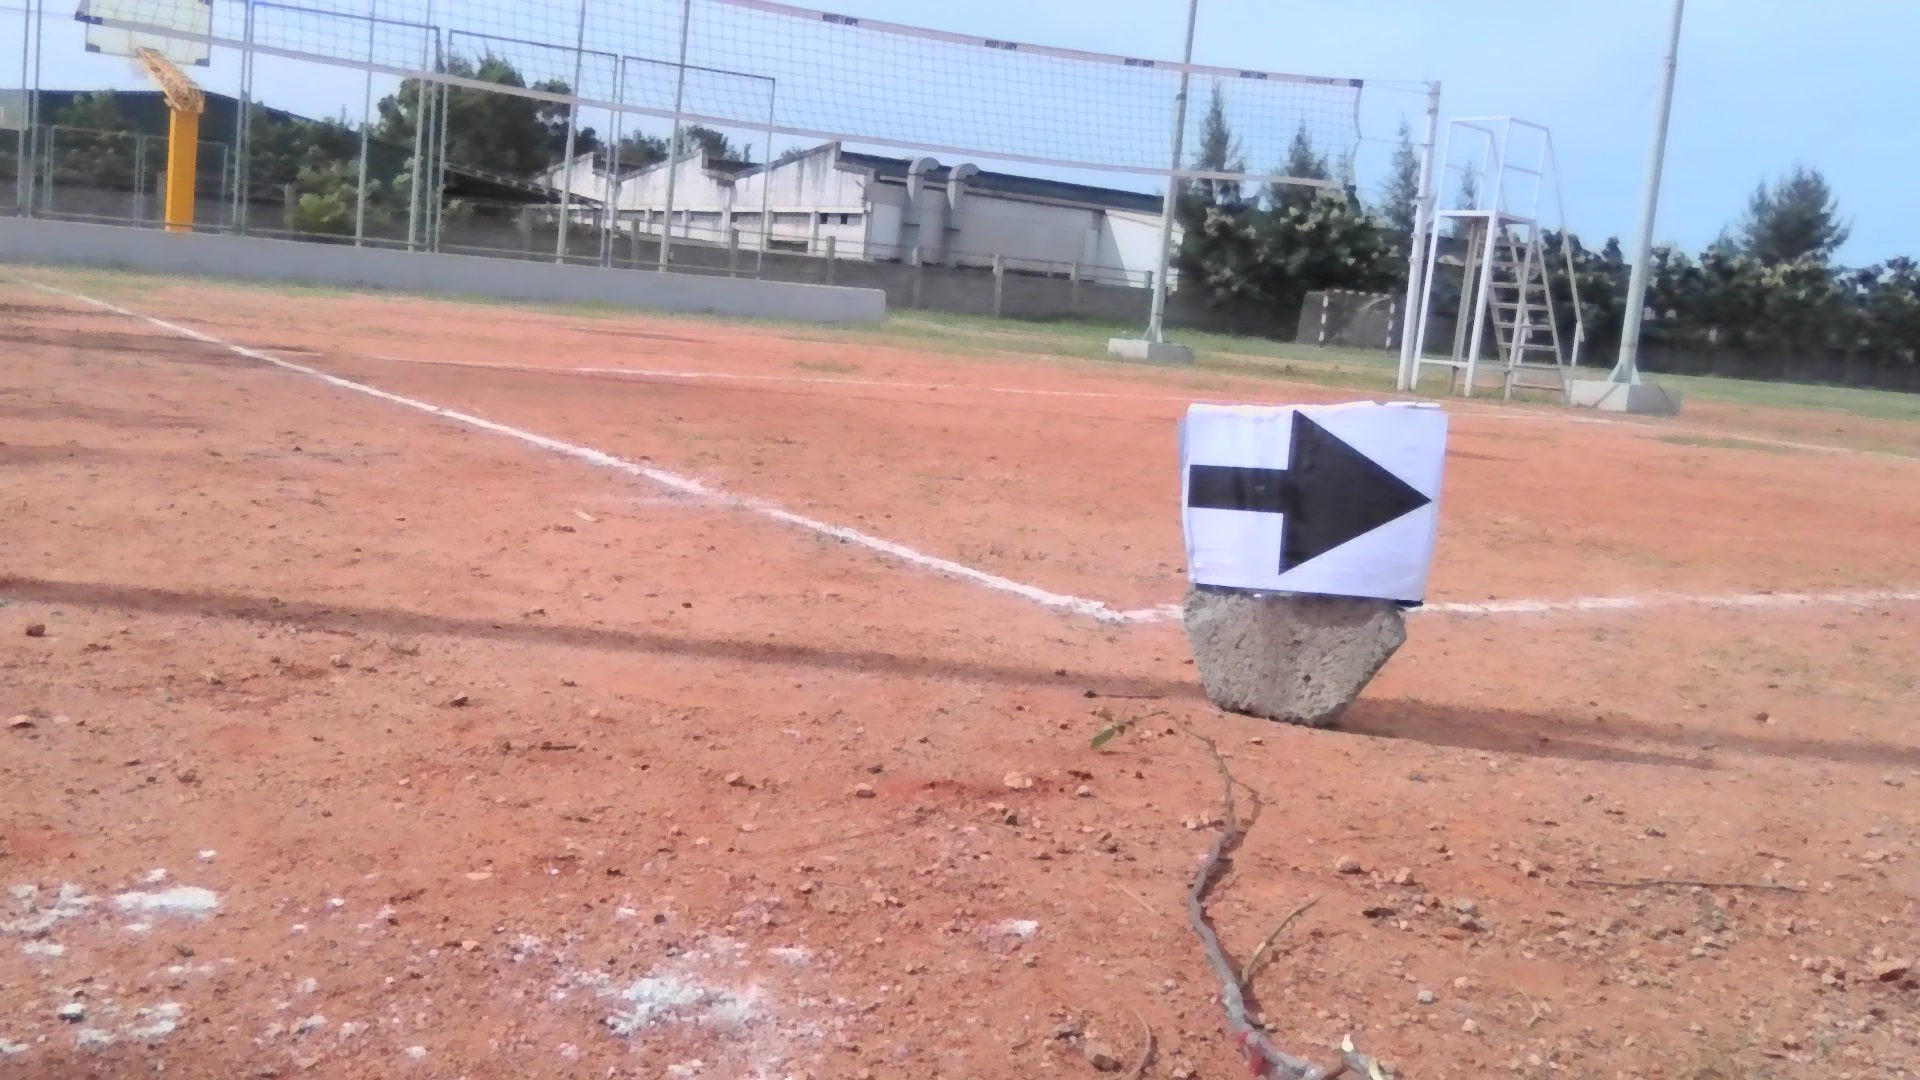leftDir: (1176, 411, 1443, 593)
